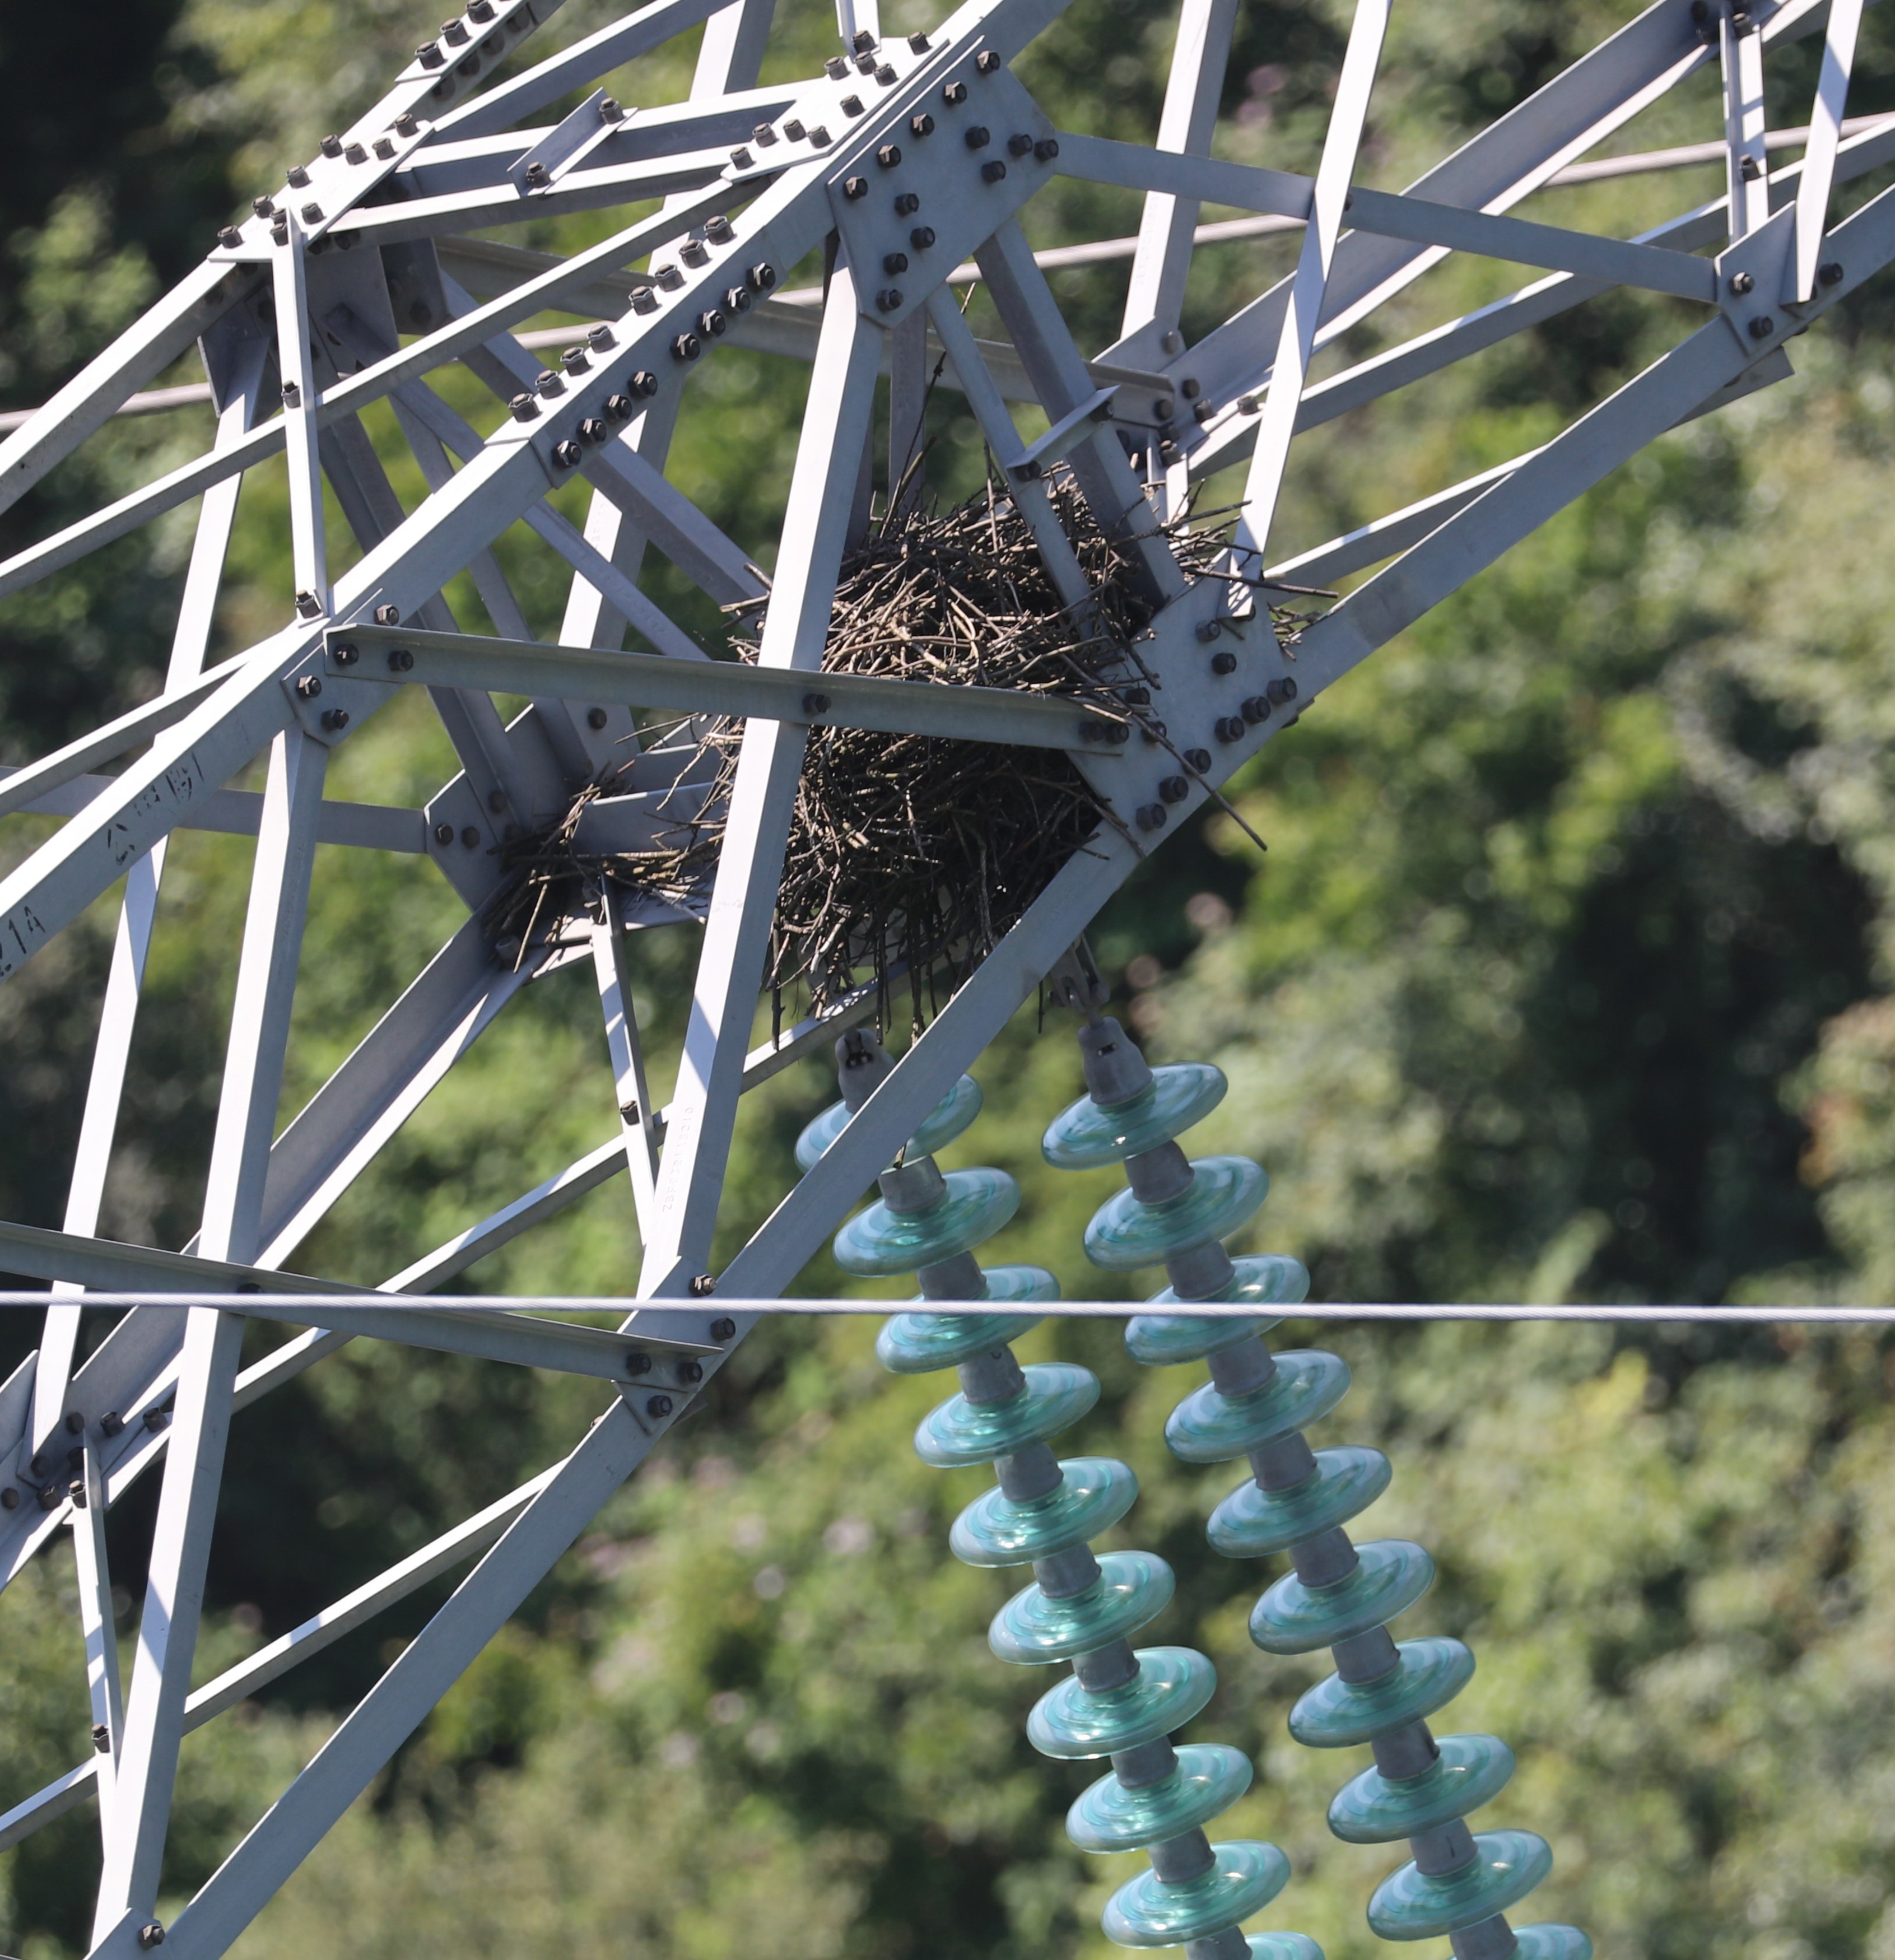niaowo: (644, 448, 1284, 1022)
